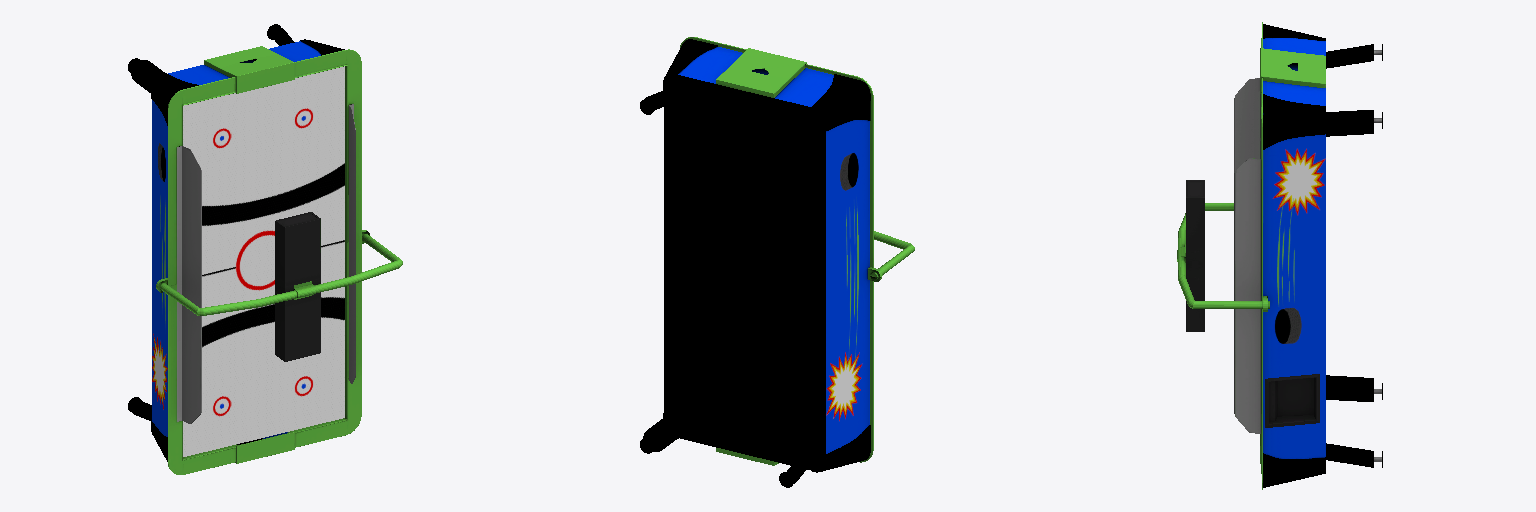
The picture shows the model from 3 angles: view 1: azimuth 30°, elevation 25°; view 2: azimuth 150°, elevation 25°; view 3: azimuth 270°, elevation 25°; orthographic projection.
Visible parts, largest first — view 1: object_0; view 2: object_0; view 3: object_0.
Part boxes in pixels (bbox=[...]): object_0: bbox=[128, 24, 402, 474]; object_0: bbox=[640, 37, 914, 487]; object_0: bbox=[1177, 22, 1382, 489].
Bounding box in the file's own units: 149 × 259 × 124.
1 materials, 1 textured.